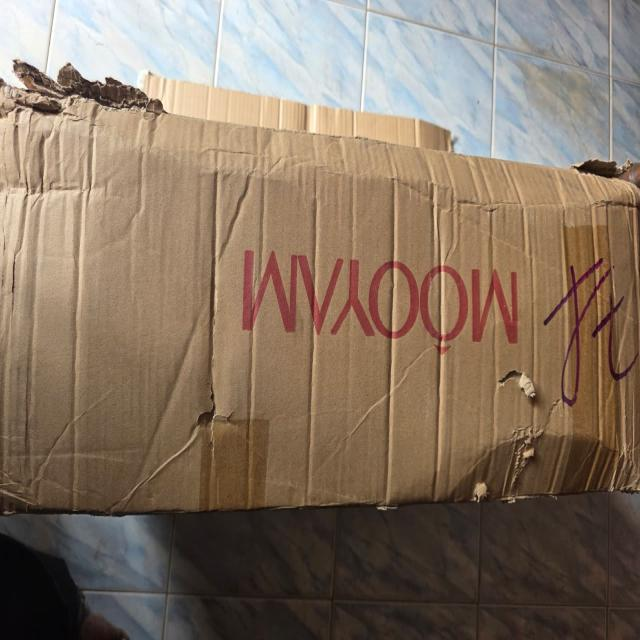carton_box: (0, 43, 640, 560)
package_damage: (0, 44, 166, 175), (456, 430, 640, 518), (518, 127, 640, 218), (172, 355, 254, 464), (489, 358, 558, 419)
